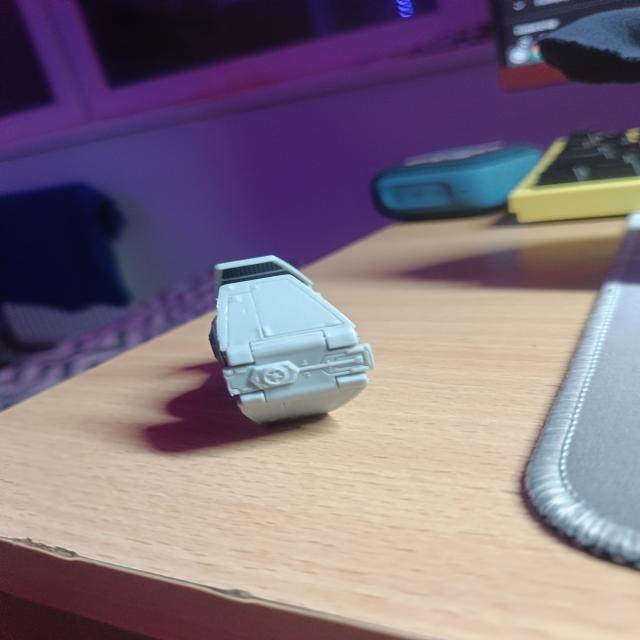tie fighter: (210, 256, 375, 423)
